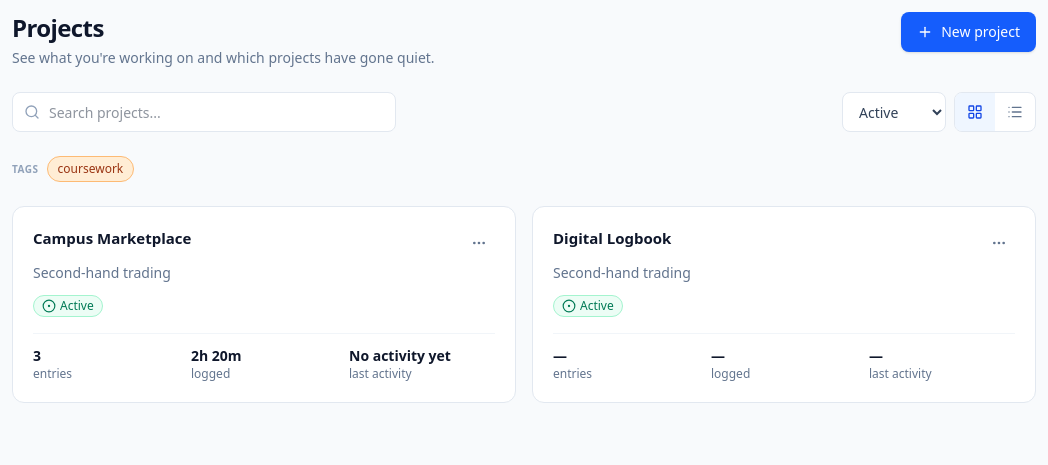
Scenario: ProjectsPage — loading and listing › filters by the search box and explains an empty result
Expected: the link "Campus Marketplace" is shown, [33,228,192,248]
Type "logbook" into the search field with placeholder "Search projects..." at (204, 112), box [12,92,396,132]
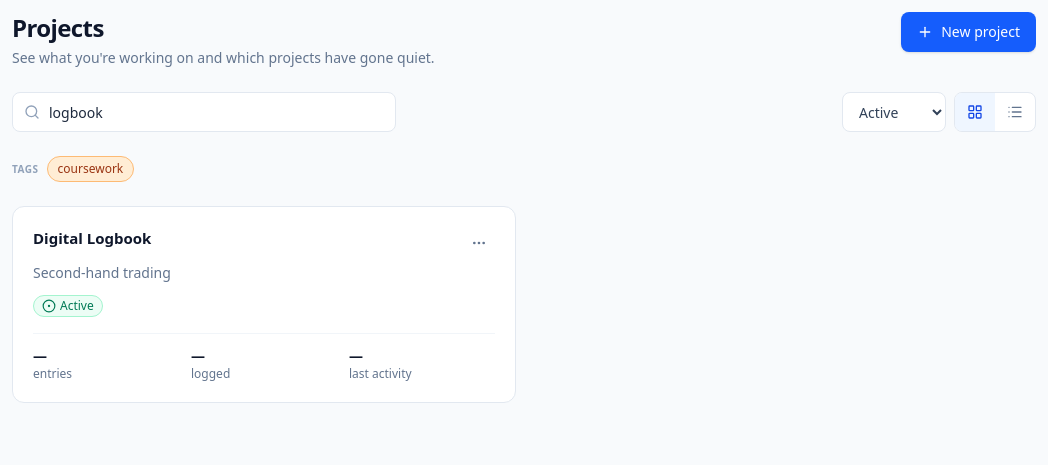
Expected: the link "Digital Logbook" is shown, [33,228,151,248]
Expected: the link "Campus Marketplace" is gone
Replace the text in the search field with placeholder "Search projects..." with "nothing matches" at (204, 112), box [12,92,396,132]
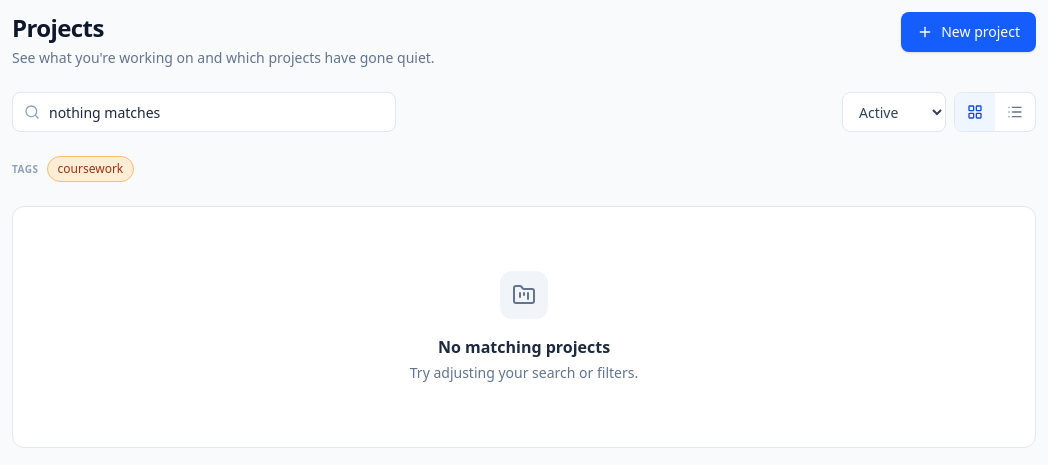
Expected: the text "No matching projects" is shown, [438,335,610,359]
